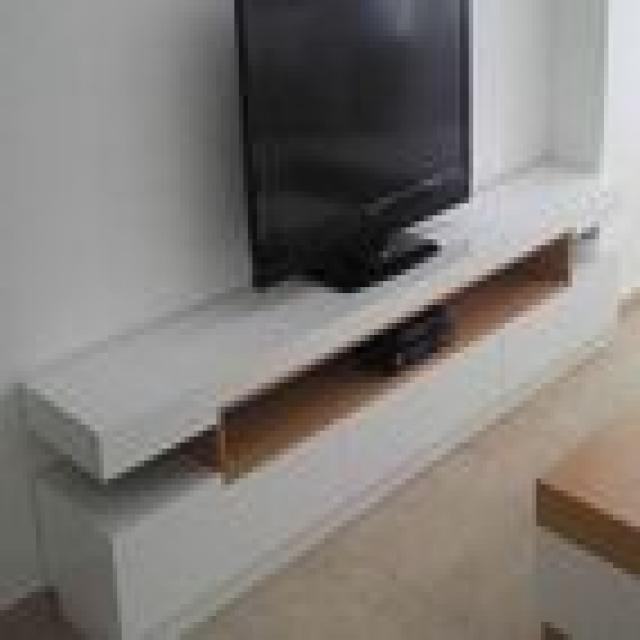others: (221, 6, 482, 305)
